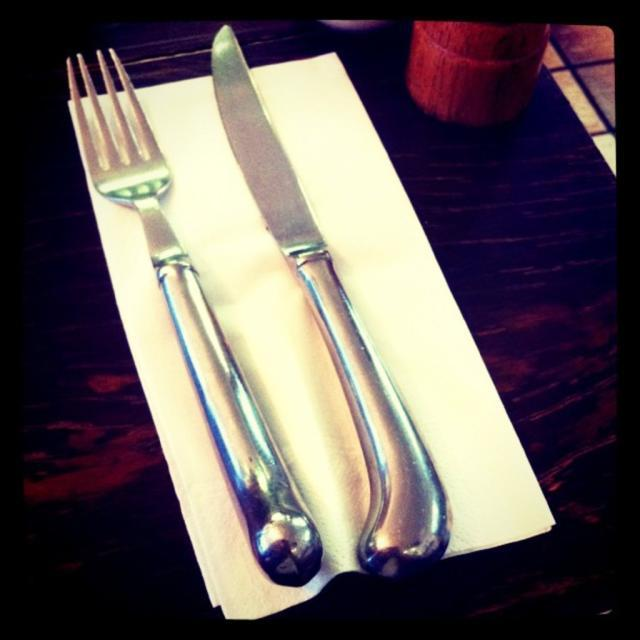Knife: (211, 26, 450, 577)
